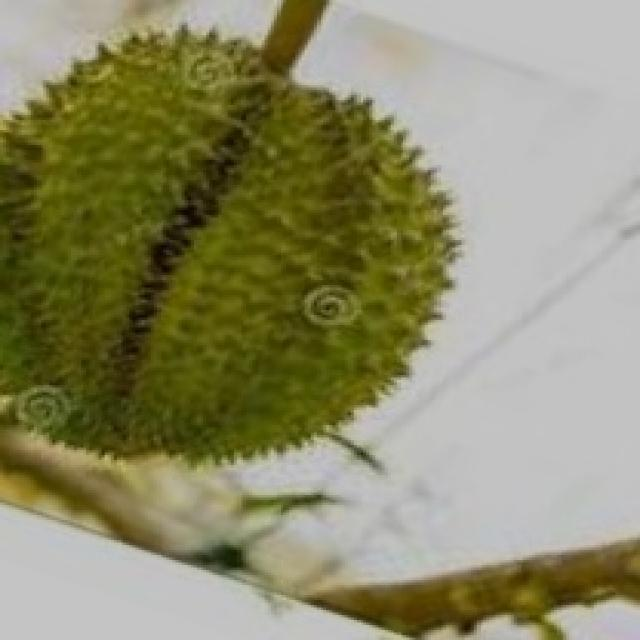fruit: (86, 132, 517, 528)
